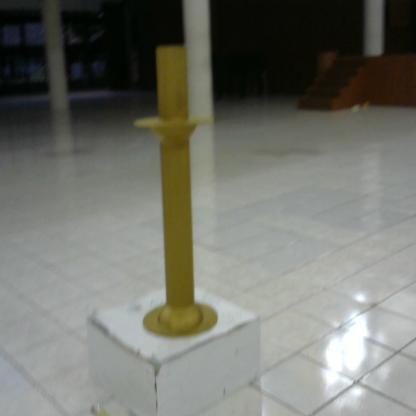pole: (130, 36, 227, 347)
